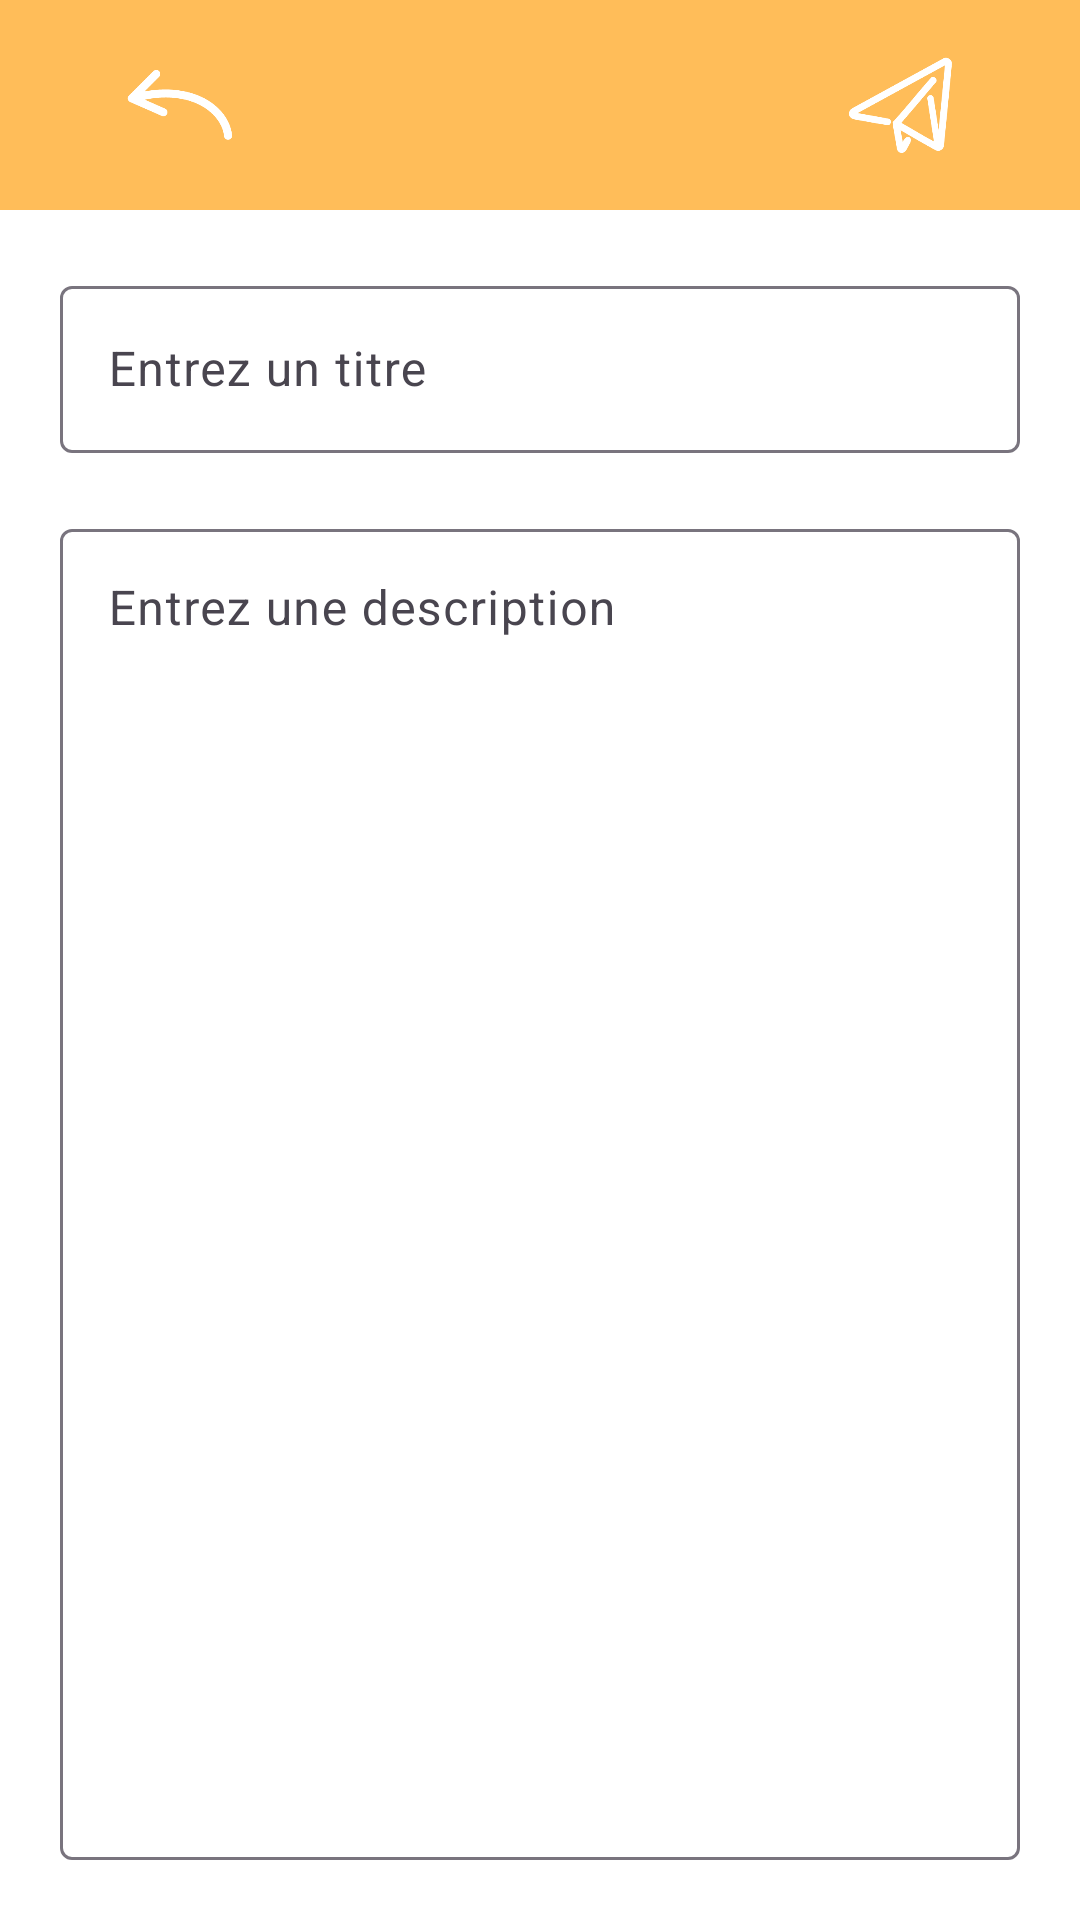

Screen size 1080px×1920px. Icon name, then its center in pixels as (x,y):
back: (179,105)
send: (900,105)
